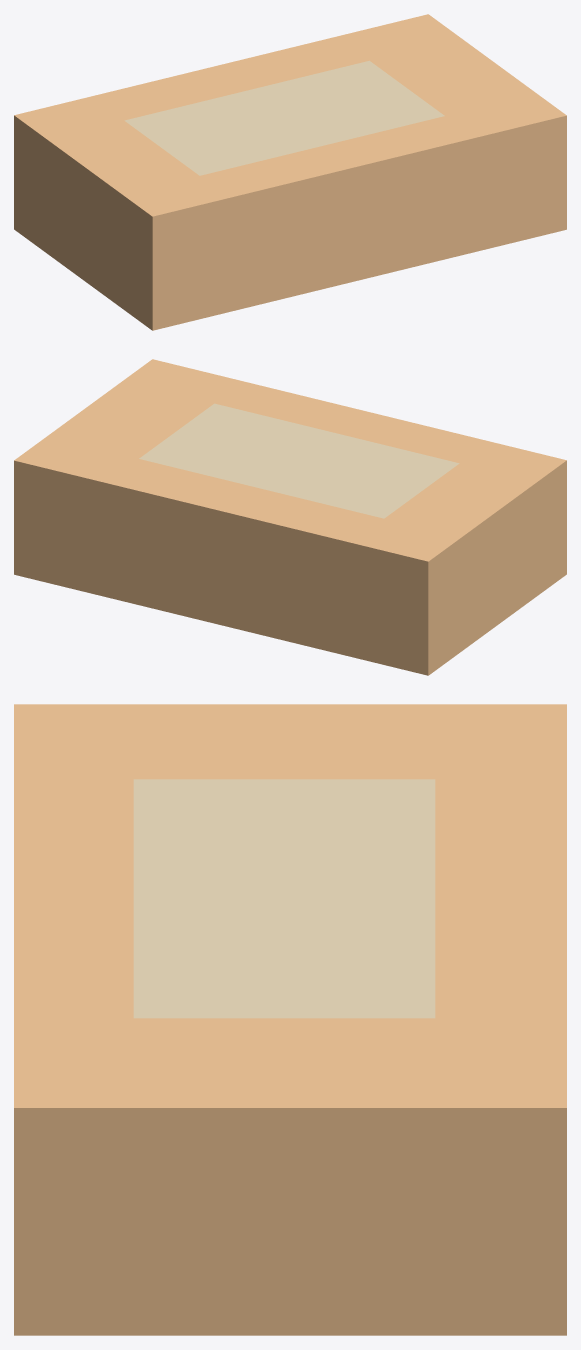
The model's file is Crackers.fbx.
3 renders of one model, top to bottom at view 1: azimuth 30°, elevation 25°; view 2: azimuth 150°, elevation 25°; view 3: azimuth 270°, elevation 25°, orthographic. The views are drawn at different scales.
Parts seen in each view (by area): view 1: Crackers; view 2: Crackers; view 3: Crackers.
Part boxes in pixels (bbox=[...]): Crackers: bbox=[14, 14, 566, 330]; Crackers: bbox=[14, 359, 566, 675]; Crackers: bbox=[14, 704, 566, 1335].
Bounding box in the file's own units: 0.1311 × 0.0345 × 0.0759.
